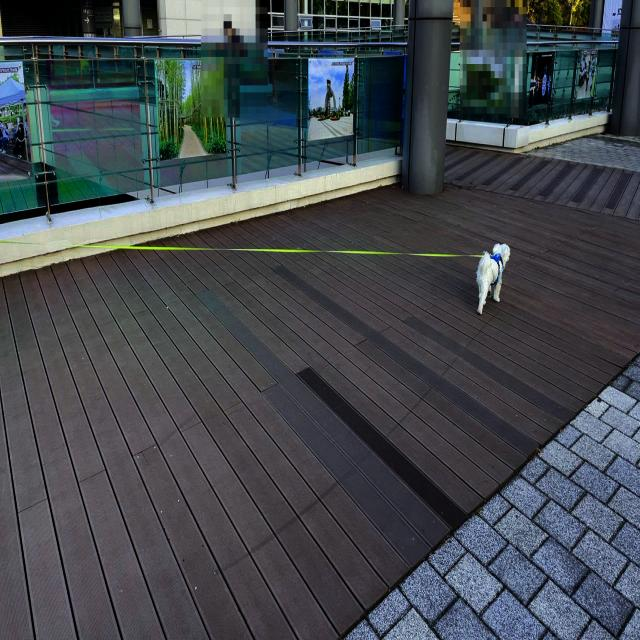Dog: (475, 242, 511, 315)
